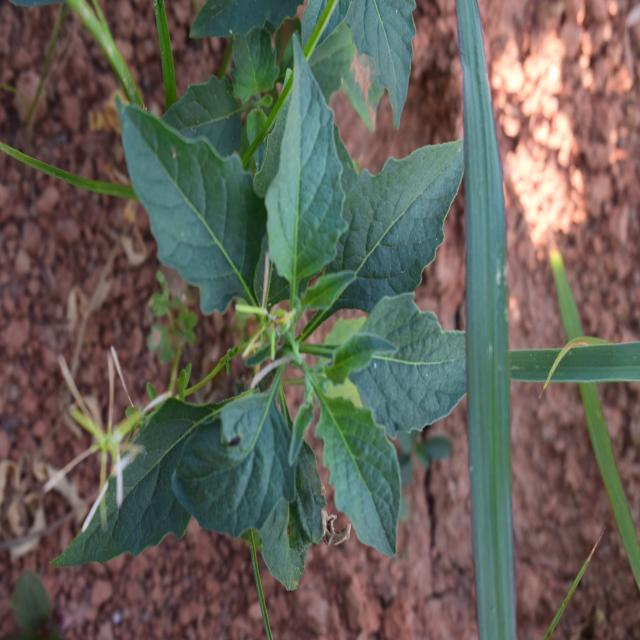Black_nightshade: (126, 88, 447, 538)
